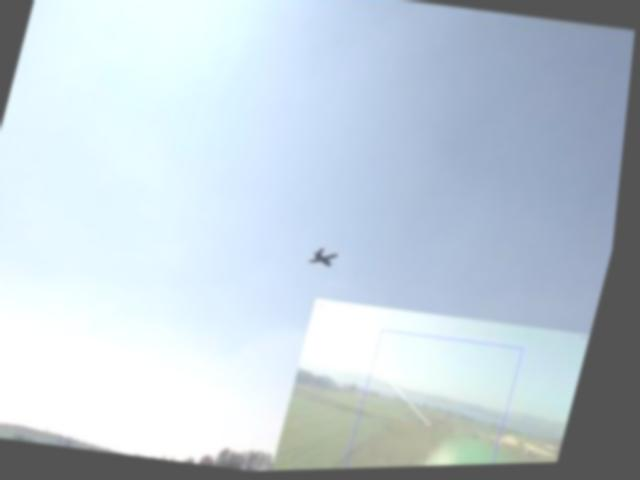uav: (311, 242, 346, 274)
